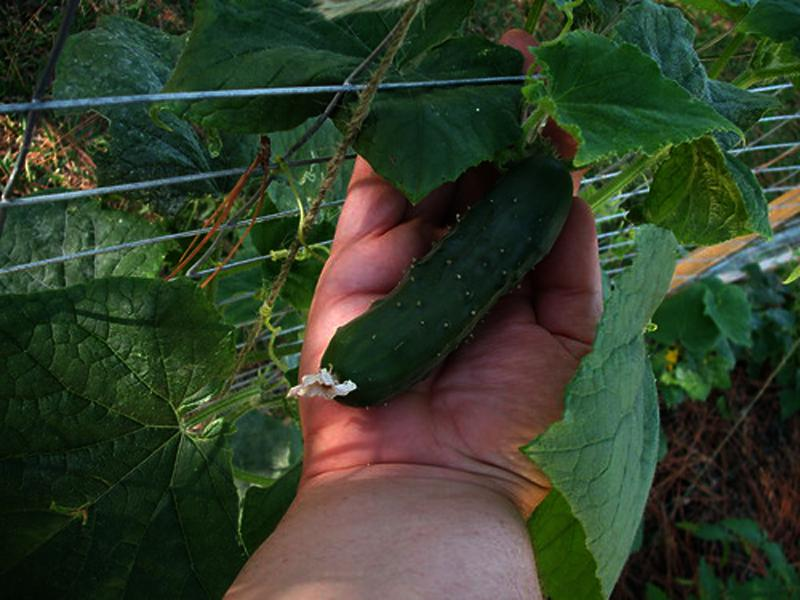Cucumber: (284, 155, 570, 406)
